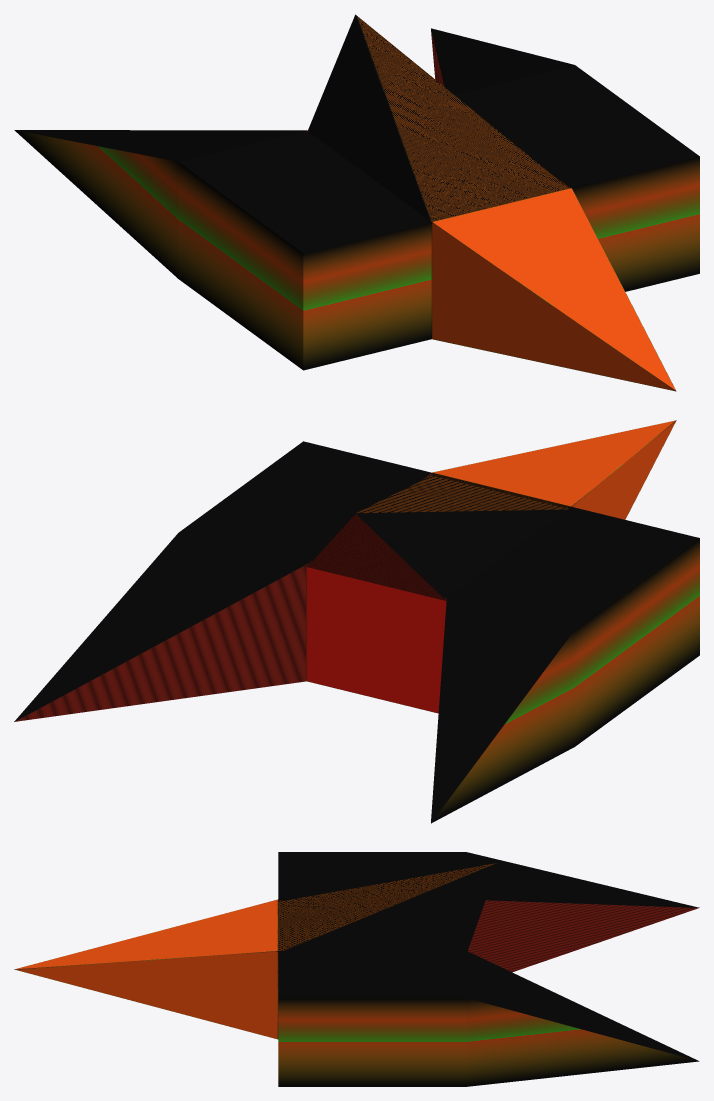
File: enemy.obj
The picture shows the model from 3 angles, top to bottom: view 1: azimuth 30°, elevation 25°; view 2: azimuth 150°, elevation 25°; view 3: azimuth 270°, elevation 25°; orthographic projection. The views are drawn at different scales.
Parts seen in each view (by area): view 1: 立方体; view 2: 立方体; view 3: 立方体.
Part boxes in pixels (bbox=[...]): 立方体: bbox=[14, 14, 699, 391]; 立方体: bbox=[14, 420, 699, 823]; 立方体: bbox=[14, 852, 699, 1086].
Bounding box in the file's own units: 4.25 × 1.95 × 8.02.
1 material, 1 textured.
